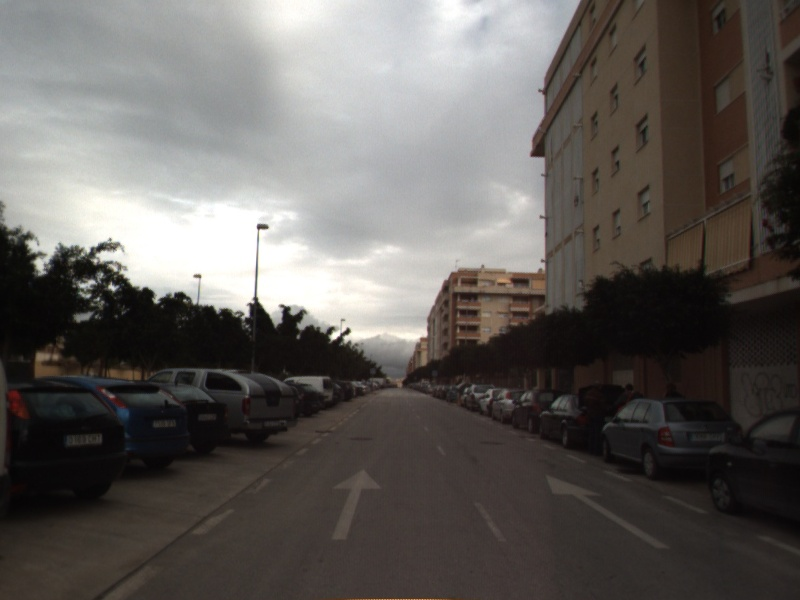STRAIGHT: (544, 472, 671, 550), (329, 467, 384, 542)
